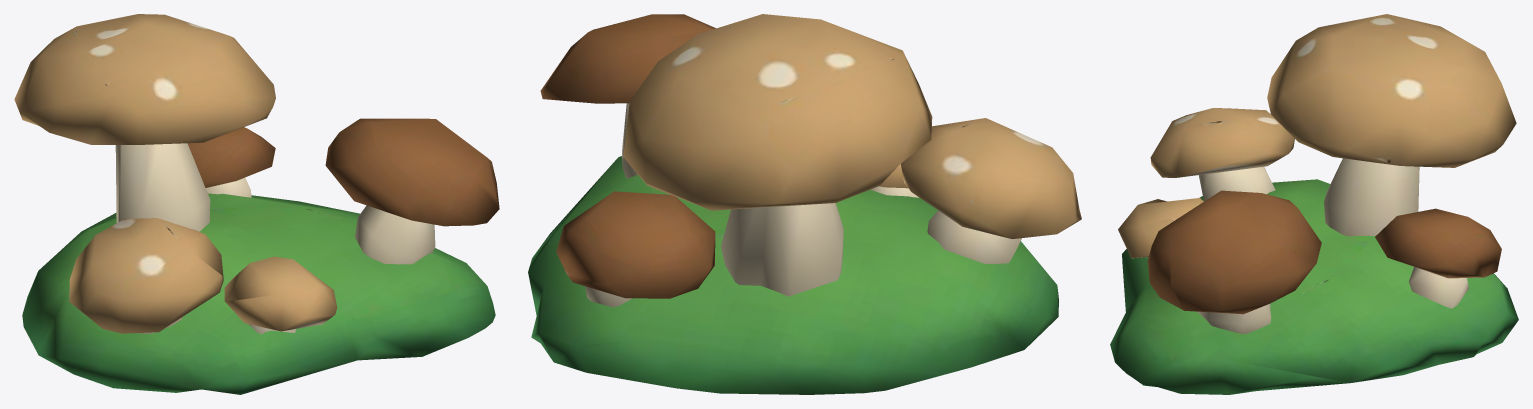
The model's file is mushroom.glb.
The picture shows the model from 3 angles, left to right: view 1: azimuth 30°, elevation 25°; view 2: azimuth 150°, elevation 25°; view 3: azimuth 270°, elevation 25°; orthographic projection. The views are drawn at different scales.
Parts seen in each view (by area): view 1: moss; view 2: moss; view 3: moss.
Boxes of the visible parts, x1,y1,x2,y2 form: moss: (14,14,499,394); moss: (528,14,1081,394); moss: (1110,14,1518,394).
Bounding box in the file's own units: 0.3836 × 0.2218 × 0.3357.
1 material, 1 textured.
